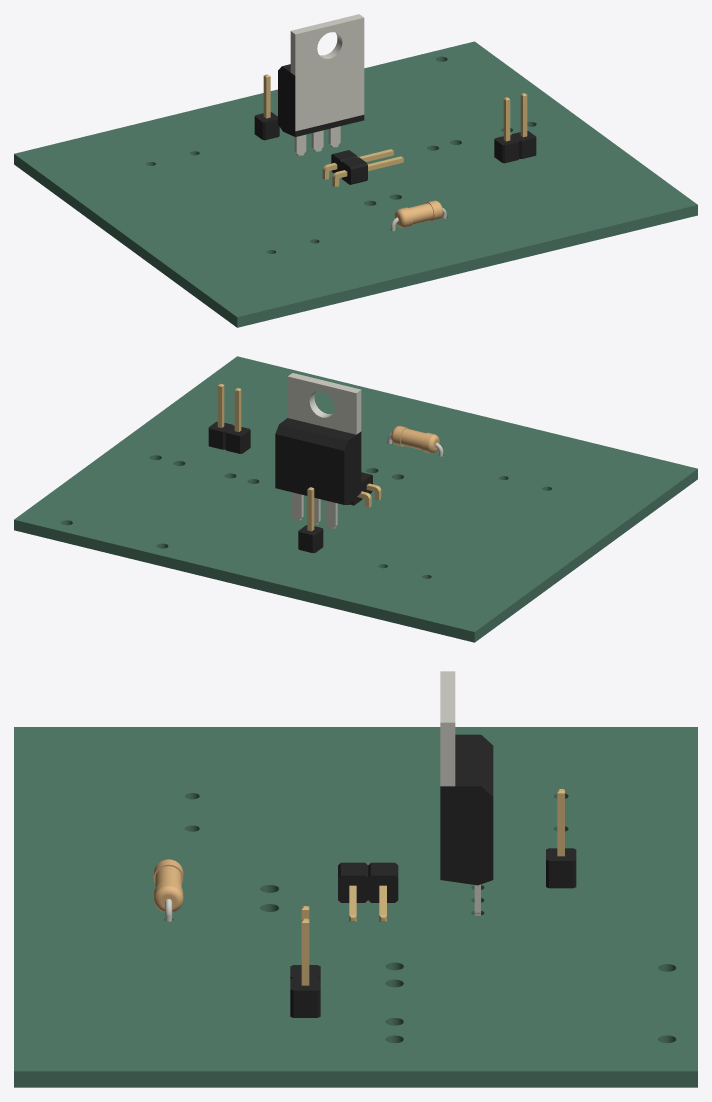
Rendered from Load Sharing PCB.glb.
The picture shows the model from 3 angles, top to bottom: view 1: azimuth 30°, elevation 25°; view 2: azimuth 150°, elevation 25°; view 3: azimuth 270°, elevation 25°; orthographic projection. The views are drawn at different scales.
Parts seen in each view (by area): view 1: =>[0:1:1:7], Q1, J1, J5, R1, J4; view 2: =>[0:1:1:7], Q1, J1, R1, J4, J5; view 3: =>[0:1:1:7], Q1, J5, J1, J4, R1.
Part boxes in pixels (x1,y1,x2,y2): =>[0:1:1:7]: [14, 41, 697, 327]; Q1: [278, 14, 364, 155]; J1: [494, 93, 536, 163]; J5: [322, 149, 403, 186]; R1: [391, 200, 446, 231]; J4: [254, 74, 279, 140]; =>[0:1:1:7]: [14, 356, 697, 642]; Q1: [275, 373, 361, 528]; J1: [208, 383, 250, 453]; R1: [387, 426, 443, 456]; J4: [298, 487, 323, 552]; J5: [350, 472, 381, 507]; =>[0:1:1:7]: [14, 727, 697, 1087]; Q1: [440, 671, 493, 915]; J5: [338, 862, 398, 921]; J1: [290, 906, 320, 1017]; J4: [546, 789, 576, 888]; R1: [153, 859, 183, 921].
Size of the model in its own units: 0.0685 by 0.0285 by 0.0575.
